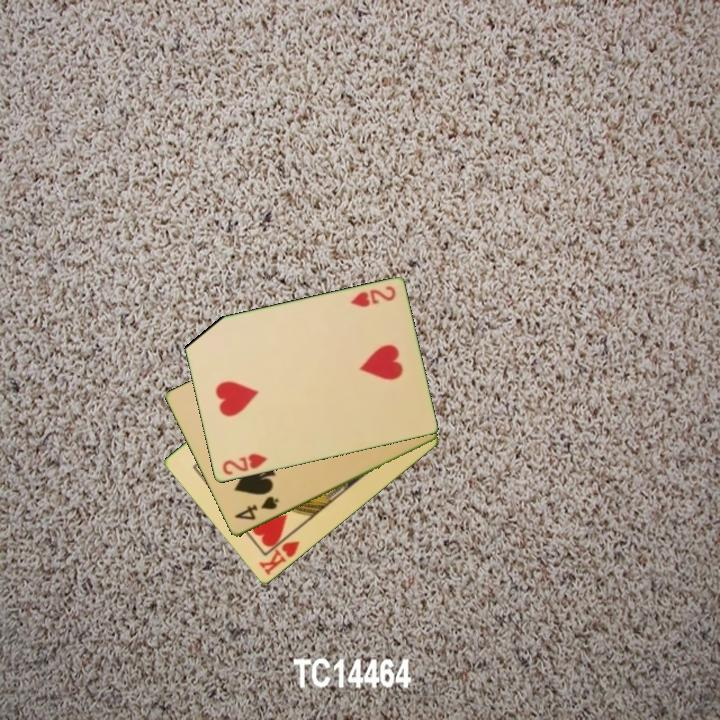2h: (218, 450, 270, 478), (347, 283, 398, 310)
4s: (231, 493, 281, 523)
Kh: (255, 528, 303, 579)
